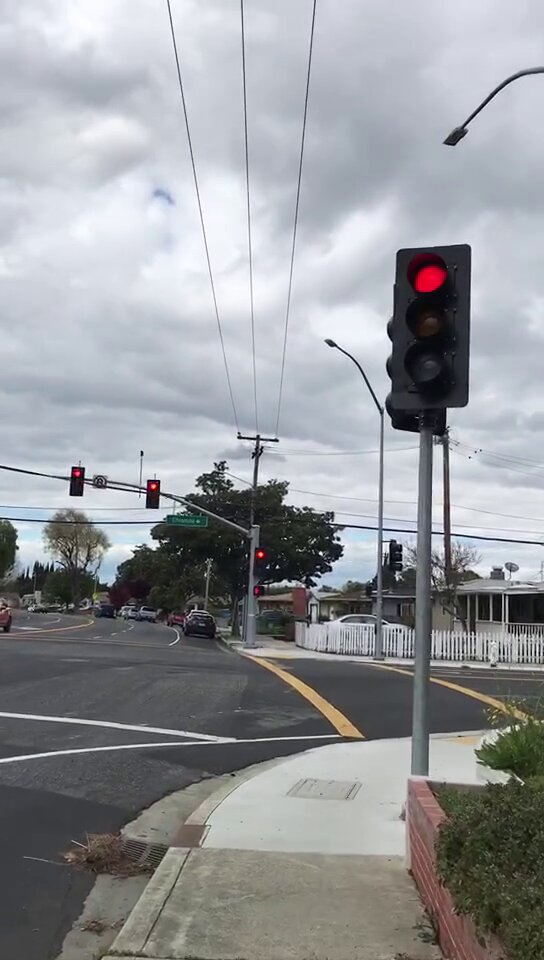red_light: (396, 248, 469, 406), (71, 466, 85, 494), (254, 547, 267, 577), (147, 481, 160, 508)
